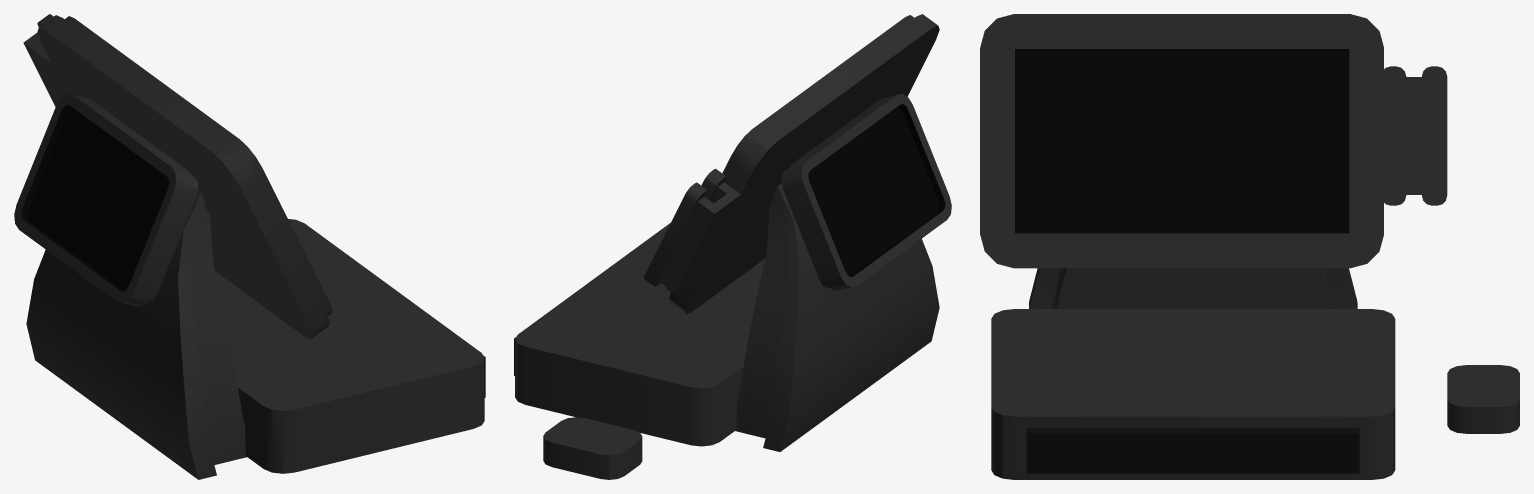
File: Checkout_Till_01.glb
The picture shows the model from 3 angles, left to right: view 1: azimuth 30°, elevation 25°; view 2: azimuth 150°, elevation 25°; view 3: azimuth 270°, elevation 25°; orthographic projection. The views are drawn at different scales.
Visible parts, largest first — view 1: Mesh_Till_01; view 2: Mesh_Till_01; view 3: Mesh_Till_01.
Part boxes in pixels (x1,y1,x2,y2): Mesh_Till_01: (14,14,485,479); Mesh_Till_01: (514,14,951,479); Mesh_Till_01: (980,14,1519,479).
Size of the model in its own units: 0.5756 by 0.5564 by 0.7931.
Materials: 1 (1 with a texture image).
